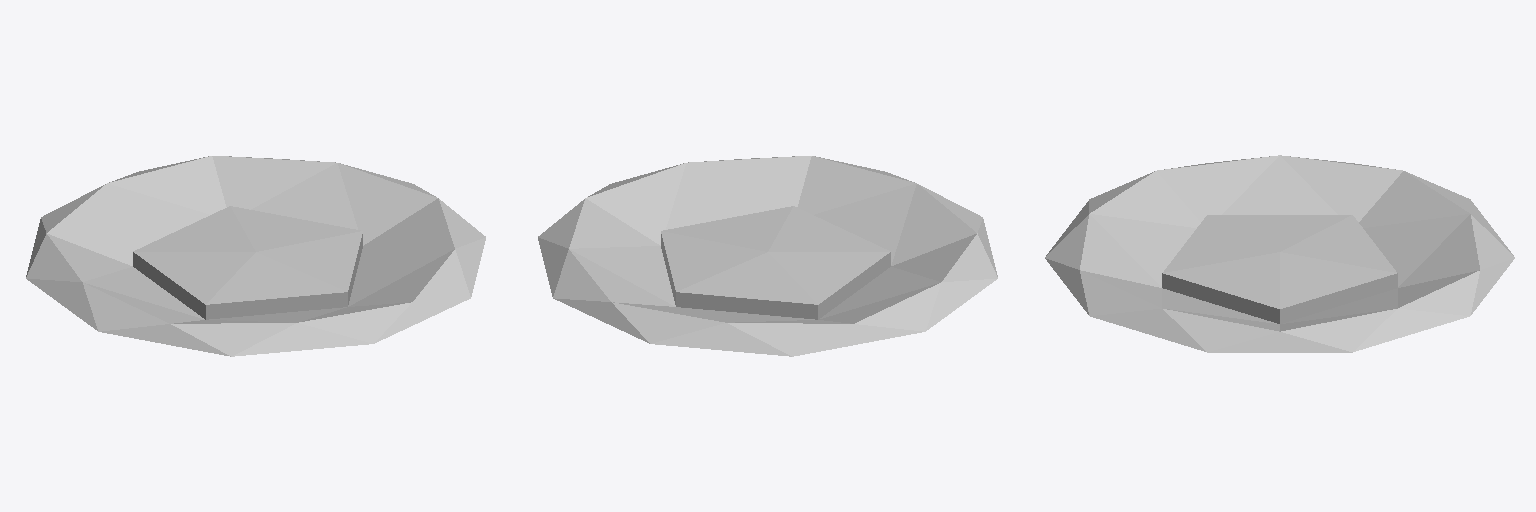
The model's file is nuvem.obj.
The picture shows the model from 3 angles: view 1: azimuth 30°, elevation 25°; view 2: azimuth 150°, elevation 25°; view 3: azimuth 270°, elevation 25°; orthographic projection.
Parts seen in each view (by area): view 1: Icosphere; view 2: Icosphere; view 3: Icosphere.
Boxes of the visible parts, box(x1,y1,x2,y2) form: Icosphere: box(26, 156, 485, 356); Icosphere: box(538, 156, 997, 356); Icosphere: box(1045, 155, 1514, 352).
Size of the model in its own units: 0.6613 by 0.0522 by 0.6953.